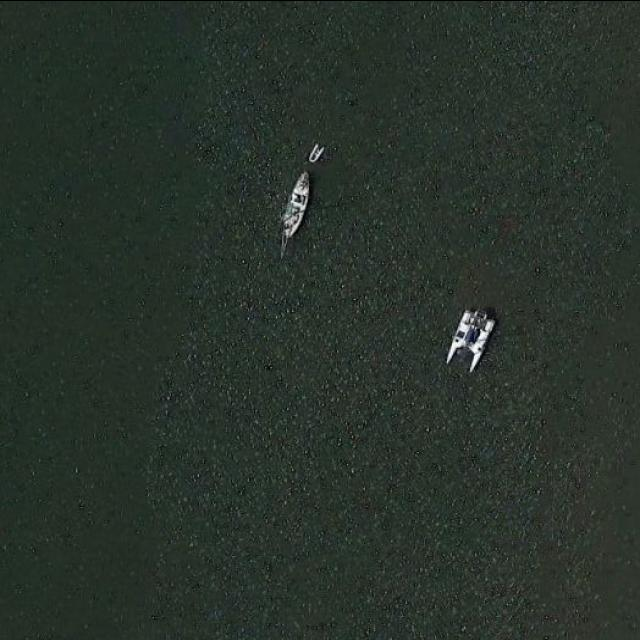ship: (442, 306, 496, 374), (277, 168, 315, 244)
